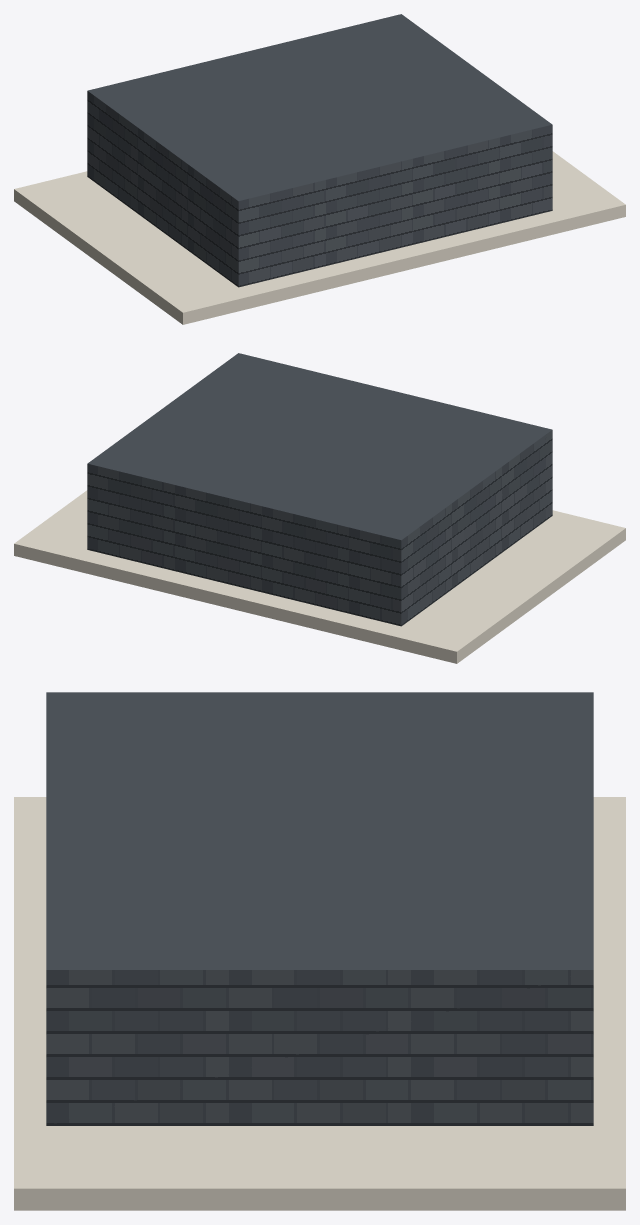
File: roof-flat-6.obj
The picture shows the model from 3 angles, top to bottom: view 1: azimuth 30°, elevation 25°; view 2: azimuth 150°, elevation 25°; view 3: azimuth 270°, elevation 25°; orthographic projection. The views are drawn at different scales.
Visible parts, largest first — view 1: part2, part1.nocast; view 2: part2, part1.nocast; view 3: part2, part1.nocast.
Boxes of the visible parts, x1=… form: part2: x1=87, y1=14, x2=552, y2=287; part1.nocast: x1=14, y1=151, x2=625, y2=324; part2: x1=87, y1=353, x2=552, y2=626; part1.nocast: x1=14, y1=490, x2=625, y2=663; part2: x1=46, y1=692, x2=593, y2=1125; part1.nocast: x1=14, y1=797, x2=625, y2=1210.
Bounding box in the file's own units: 9.14 × 2 × 6.04.
2 materials, 1 textured.
